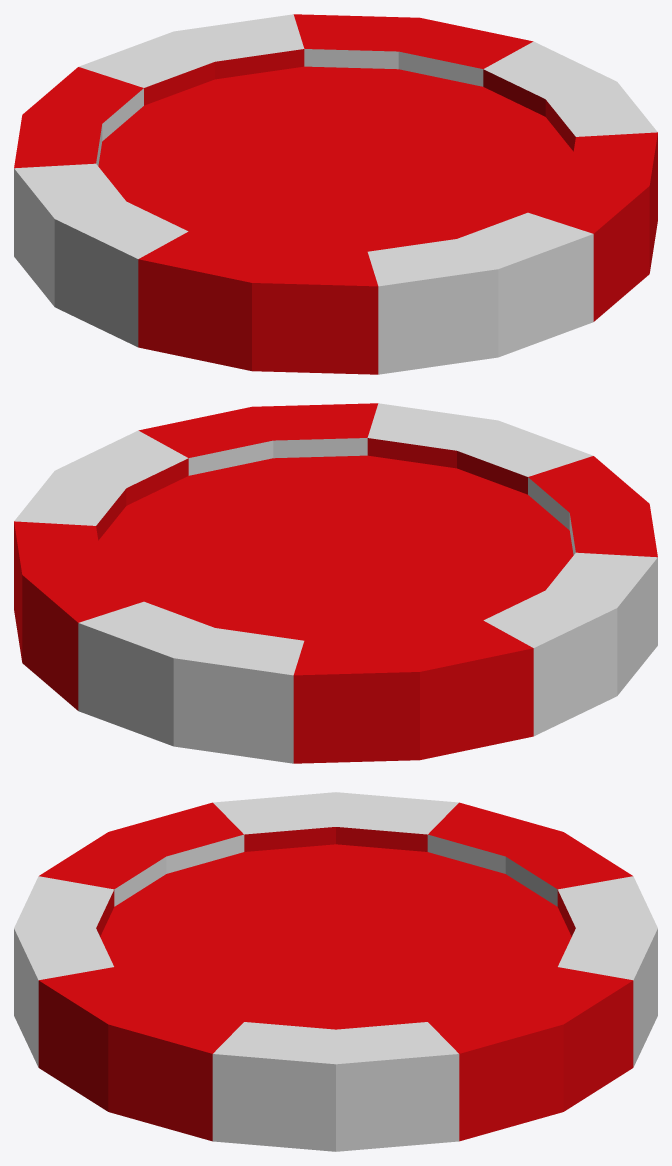
File: pokerChip.fbx
The picture shows the model from 3 angles, top to bottom: view 1: azimuth 30°, elevation 25°; view 2: azimuth 150°, elevation 25°; view 3: azimuth 270°, elevation 25°; orthographic projection.
Visible parts, largest first — view 1: Cylinder; view 2: Cylinder; view 3: Cylinder.
Boxes of the visible parts, left/top/right/bottom form: Cylinder: left=14, top=14, right=657, bottom=374; Cylinder: left=14, top=403, right=657, bottom=763; Cylinder: left=14, top=792, right=657, bottom=1151.
Size of the model in its own units: 200 by 30 by 200.
